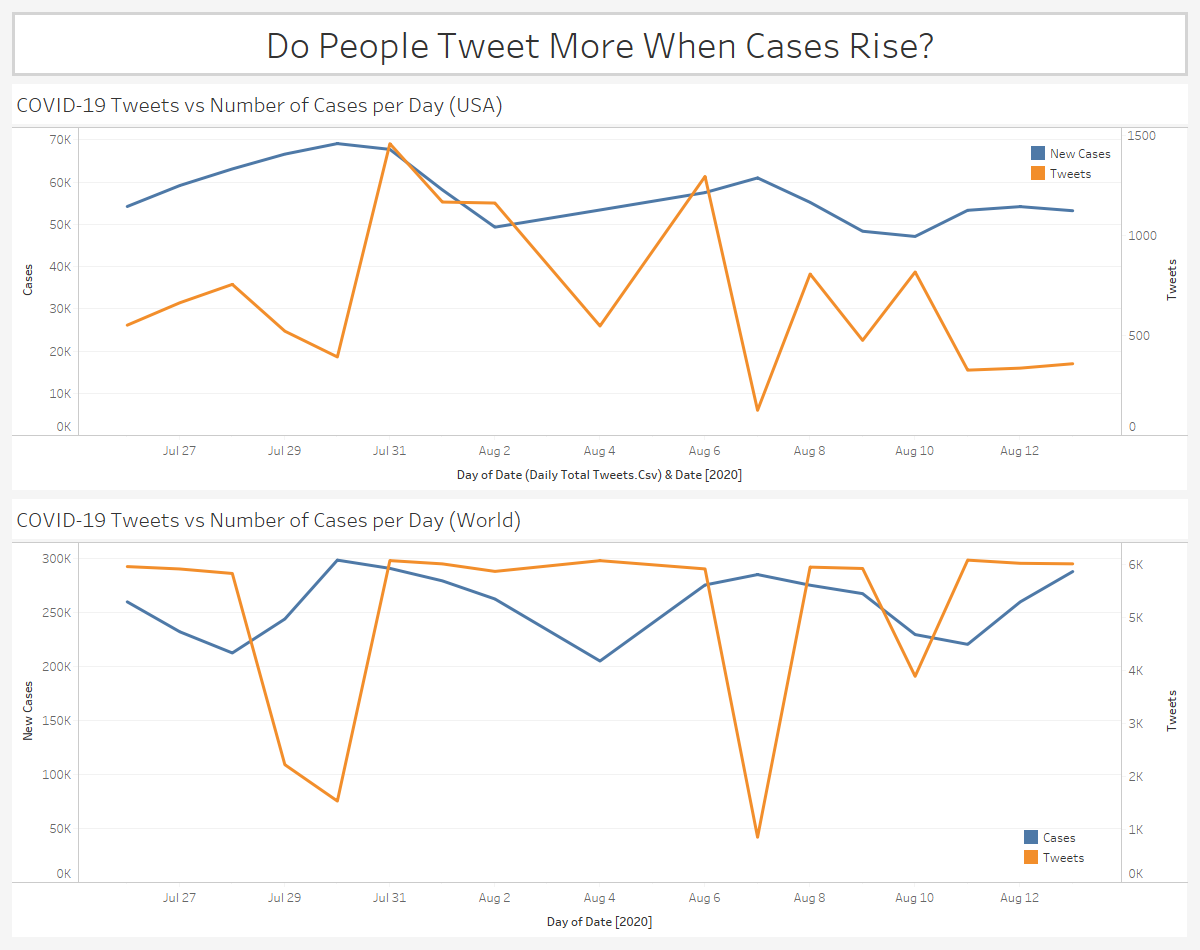

The dashboard page shown, as its layout file describes it:
{"tool":"tableau","page":{"name":"Tweets/Cases per Day (2)","canvas":[1200,950],"ordinal":1},"visuals":[{"type":"title","box":[8,8,1184,72]},{"type":"worksheet","title":"Tweets vs Cases (USA) ","mark":"Automatic","rows":["date 1"],"cols":["cases"],"box":[8,80,1184,395]},{"type":"worksheet","title":"Tweets vs Cases (World)","mark":"Automatic","rows":["user_location"],"cols":["new_cases"],"box":[8,475,1184,467]}]}

Visuals, with their boxes in screenshot pixels (x1, y1, x2, y2), scaled from the page's 1200x950 canvas onto the 1200x950 screenshot:
title: [x1=8, y1=8, x2=1192, y2=80]
"Tweets vs Cases (USA) " worksheet: [x1=8, y1=80, x2=1192, y2=475]
"Tweets vs Cases (World)" worksheet: [x1=8, y1=475, x2=1192, y2=942]
